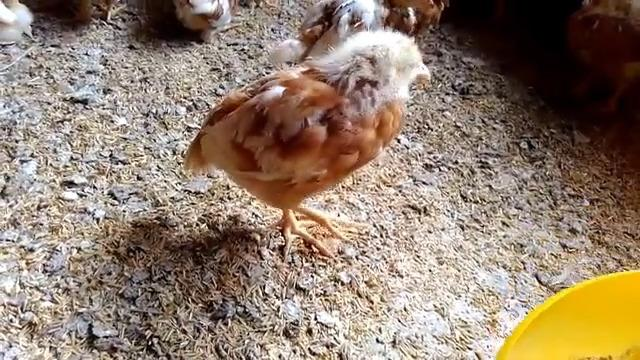AbNormal: (194, 32, 430, 253)
